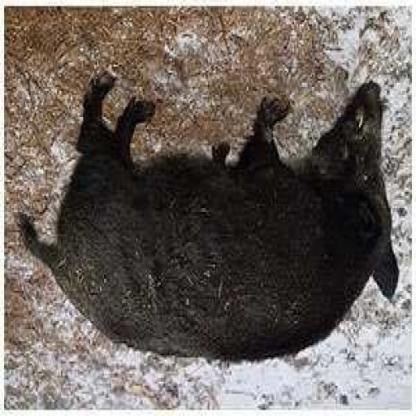boar: (1, 61, 415, 400)
